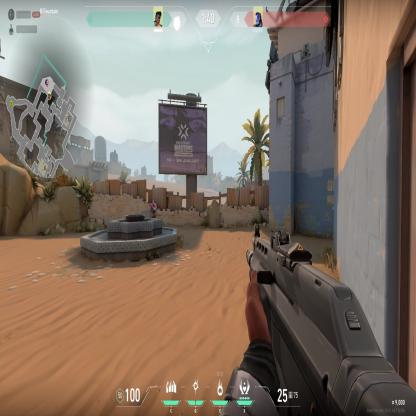enemy: (150, 199, 157, 218)
